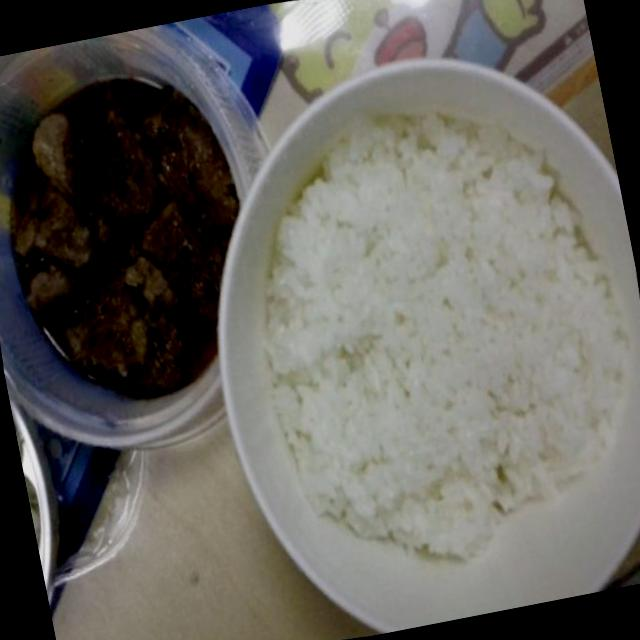Rice: (229, 74, 640, 583)
